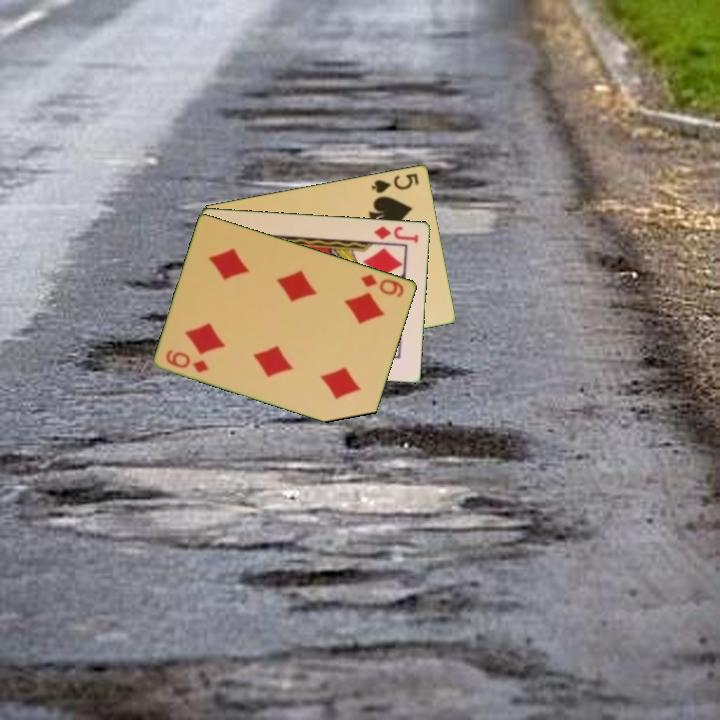5s: (368, 169, 422, 196)
6d: (358, 270, 407, 300), (163, 346, 212, 375)
Jd: (371, 222, 422, 246)
